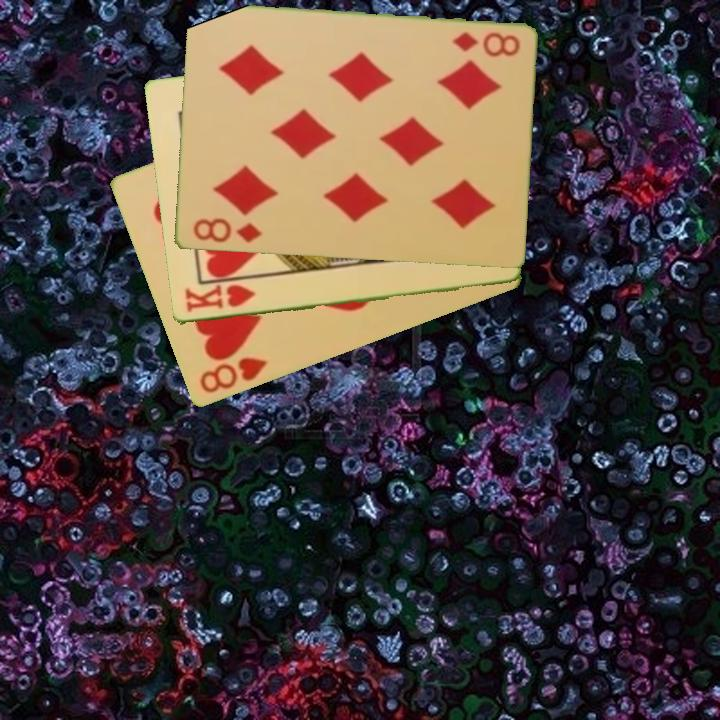8d: (189, 215, 265, 246), (449, 29, 523, 59)
8h: (196, 354, 270, 397)
Kh: (181, 281, 258, 316)
